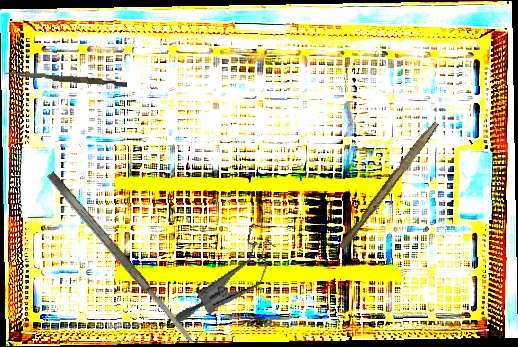Pusher: (4, 70, 128, 88)
Scalpel Handle: (337, 117, 440, 253)
Spatula Surgical: (45, 169, 197, 347)
Speculum: (173, 202, 284, 346)
